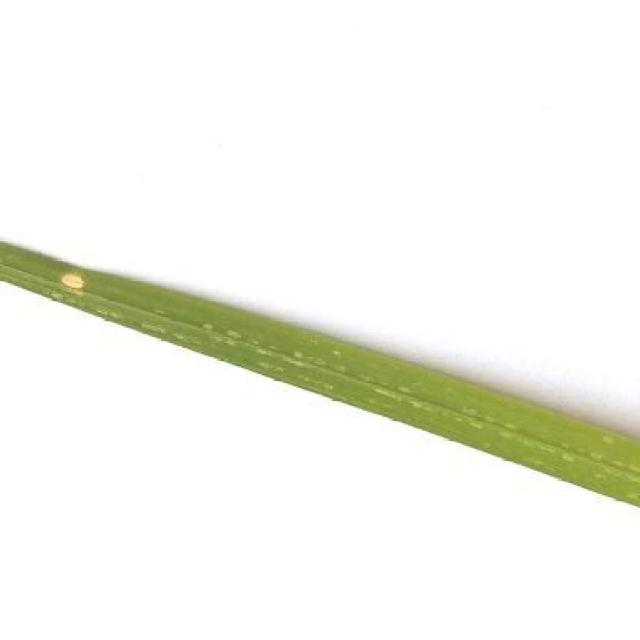Bacterial_Leaf_Blight: (48, 262, 90, 292)
